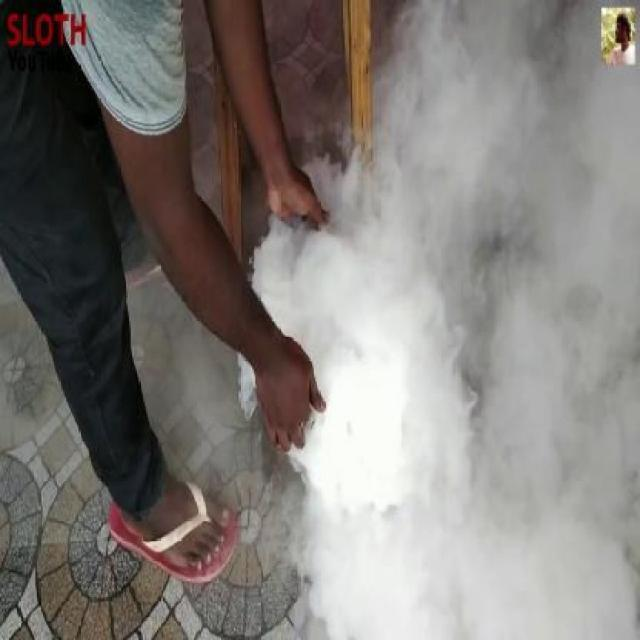smoke: (319, 114, 593, 574)
